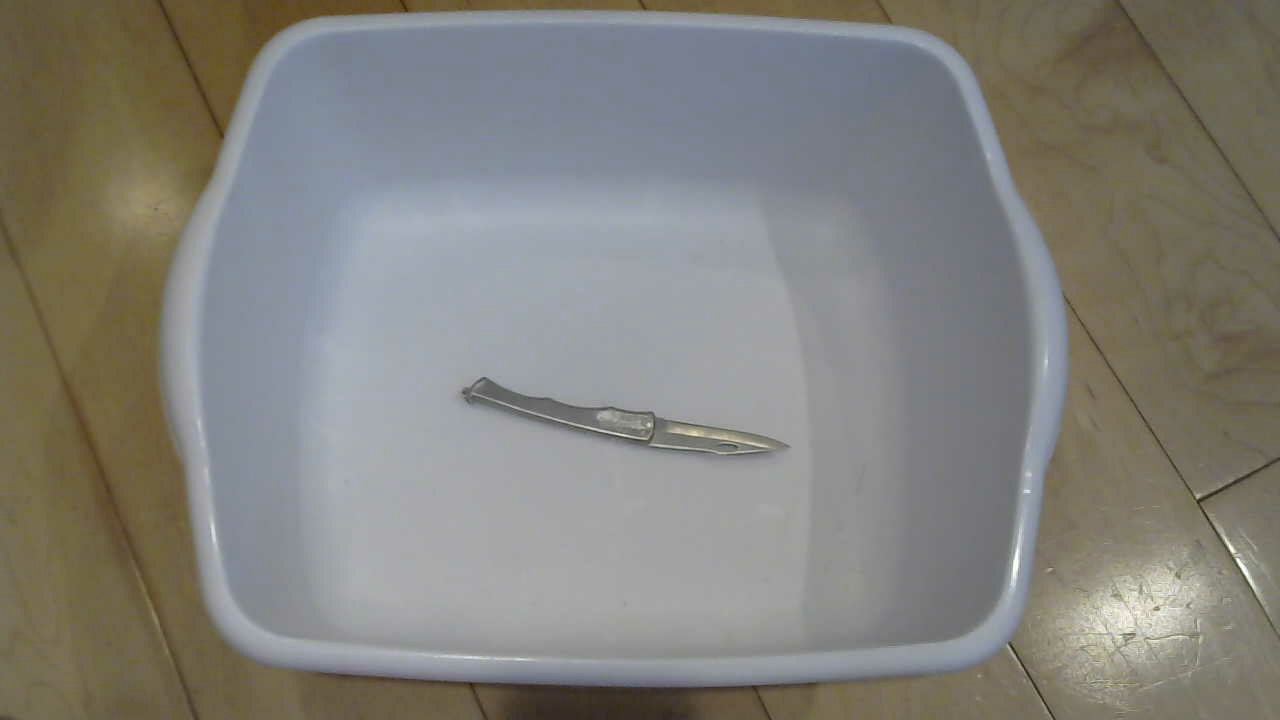knife: (447, 369, 822, 474)
